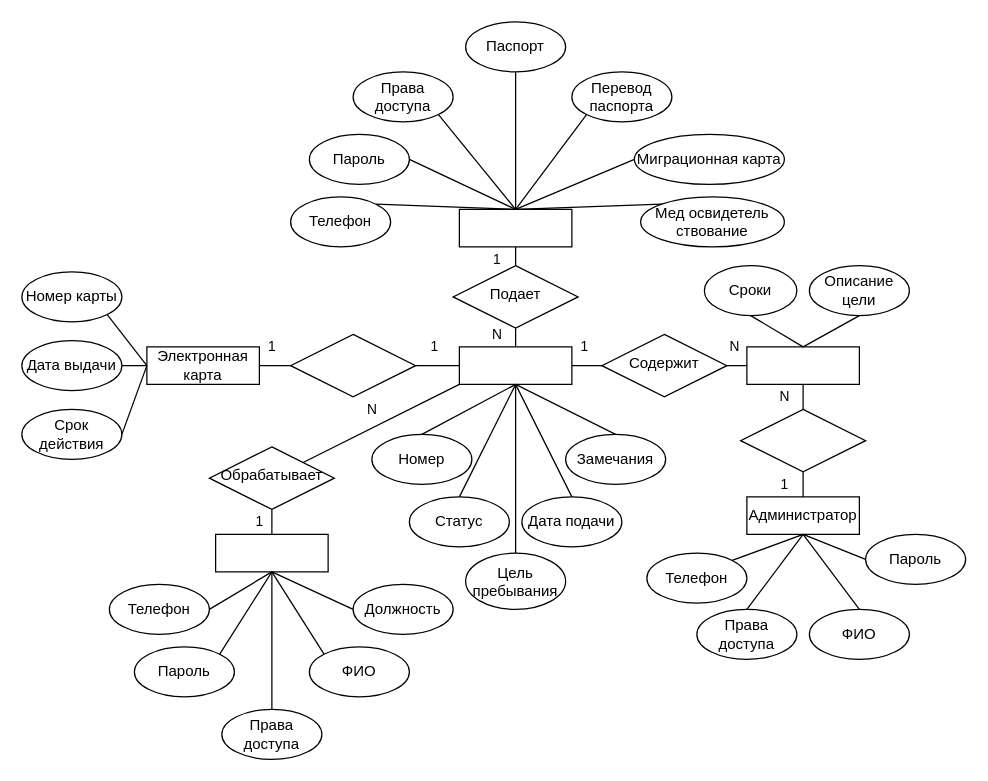
Image size: 988x781. Some labels were removed from this diagram. Each missing label, with the centre of its shape:
Выдается по: [352,365]
Заявка: [515,365]
Ин. гражданин: [515,227]
Редактирует: [802,440]
Сотрудник МВД: [271,552]
Условие заявки: [802,365]
